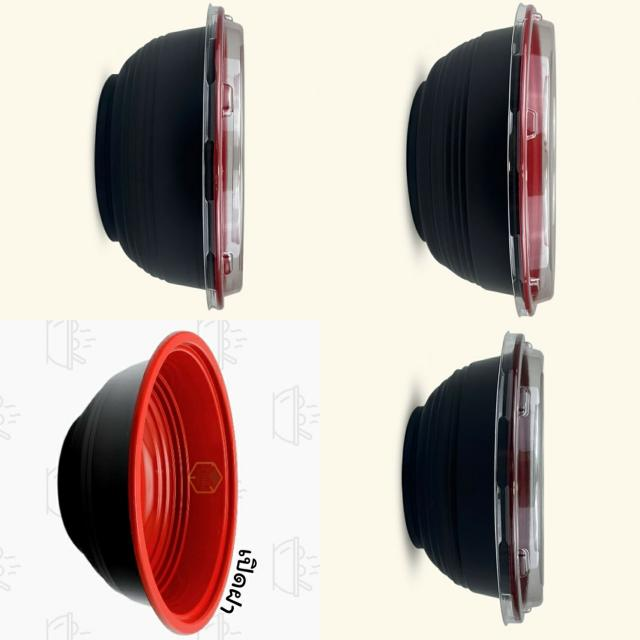Single-Use-Plastic: (58, 331, 238, 634), (408, 5, 555, 315), (95, 6, 244, 308), (402, 334, 544, 623)
